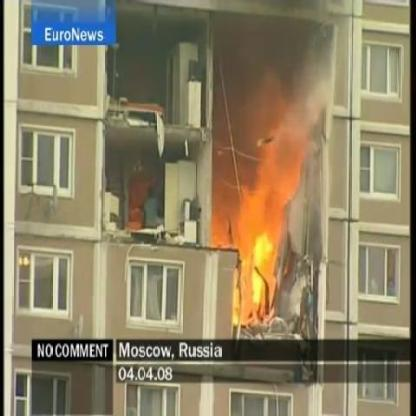fire: (236, 127, 300, 321)
